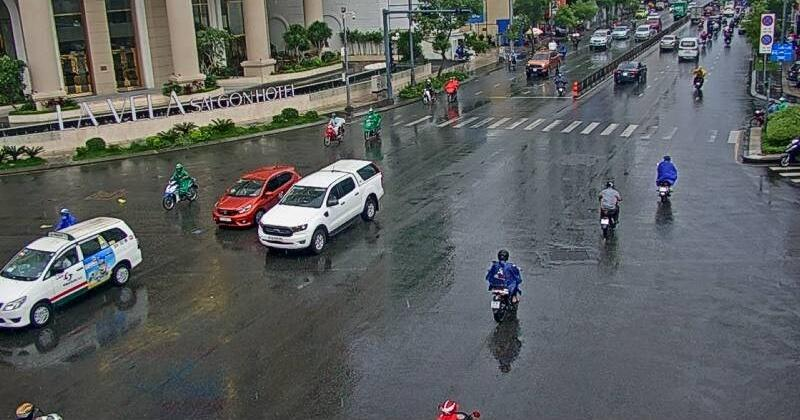xe hoi: (0, 216, 143, 335), (255, 158, 382, 255), (213, 163, 299, 226)
xe may: (484, 248, 523, 321), (160, 161, 198, 213), (653, 156, 677, 197), (324, 111, 345, 146), (362, 107, 382, 140)
